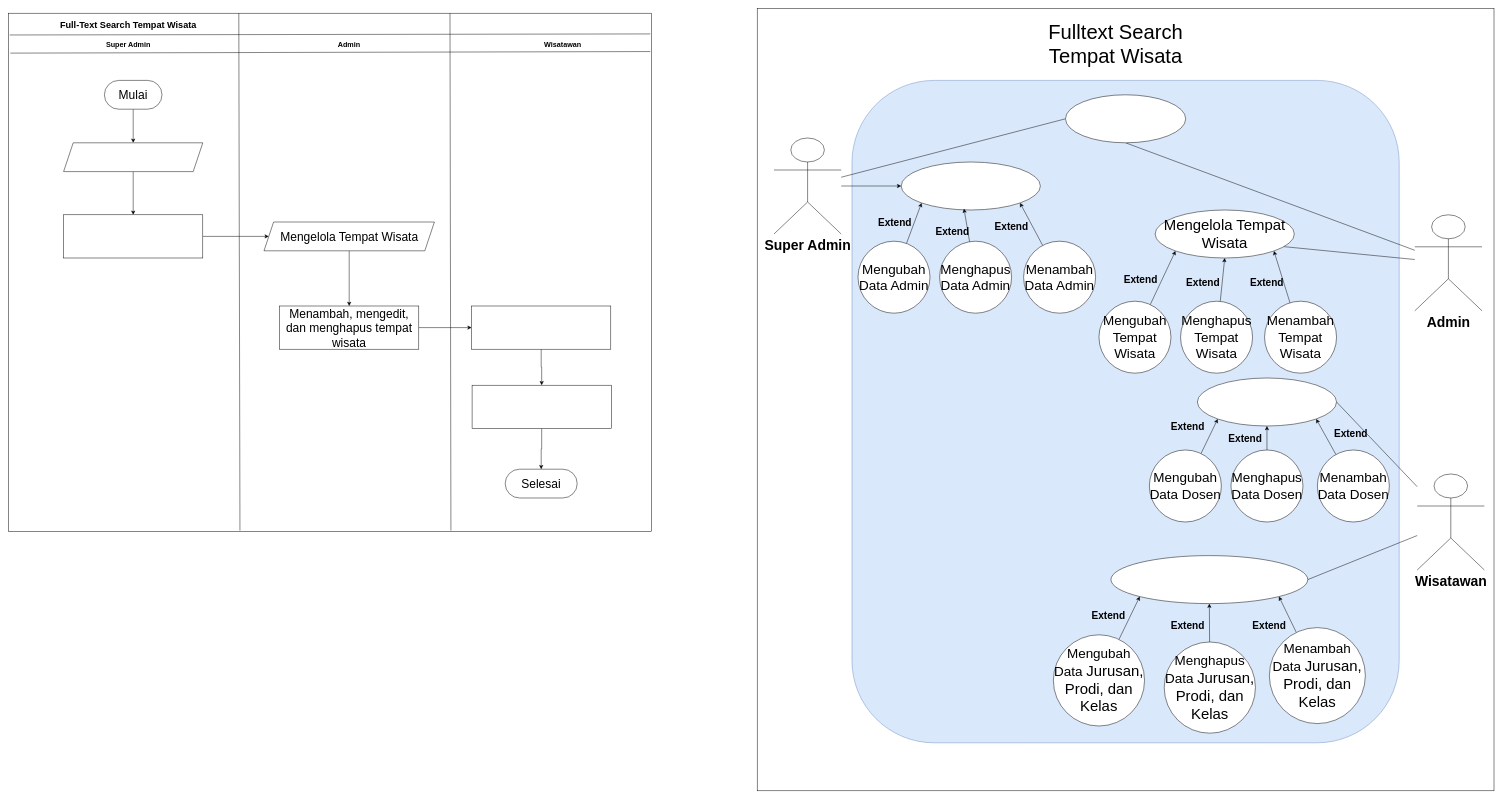
This 1502x799 diagram has some shape labels left out. Each missing label, with the centre of its shape:
Login: (1125,118)
Melihat Detail Wisata: (541,406)
Menambah, mengedit, menghapus, dan melihat daftar admin: (133,236)
Mengelola Admin: (133,157)
Mengelola Data Admin: (970,186)
Mengelola Data Dosen: (1267,402)
Mengelola Data Jurusan, Prodi, dan Kelas: (1209,579)
Wisatawan Mencari Tempat Wisata: (541,327)
